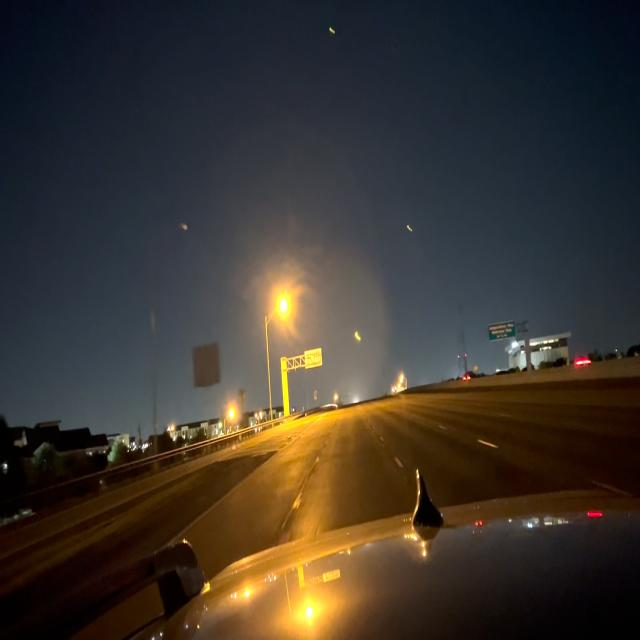back-of-sign: (194, 347, 219, 390)
